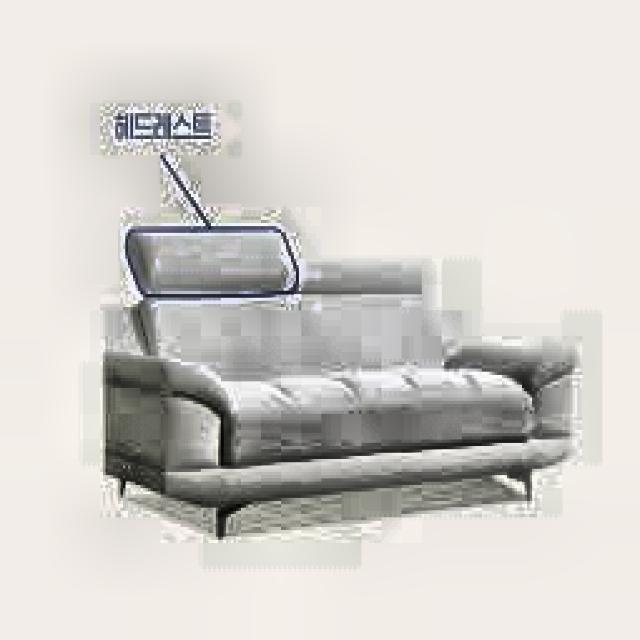sofa: (98, 236, 577, 546)
